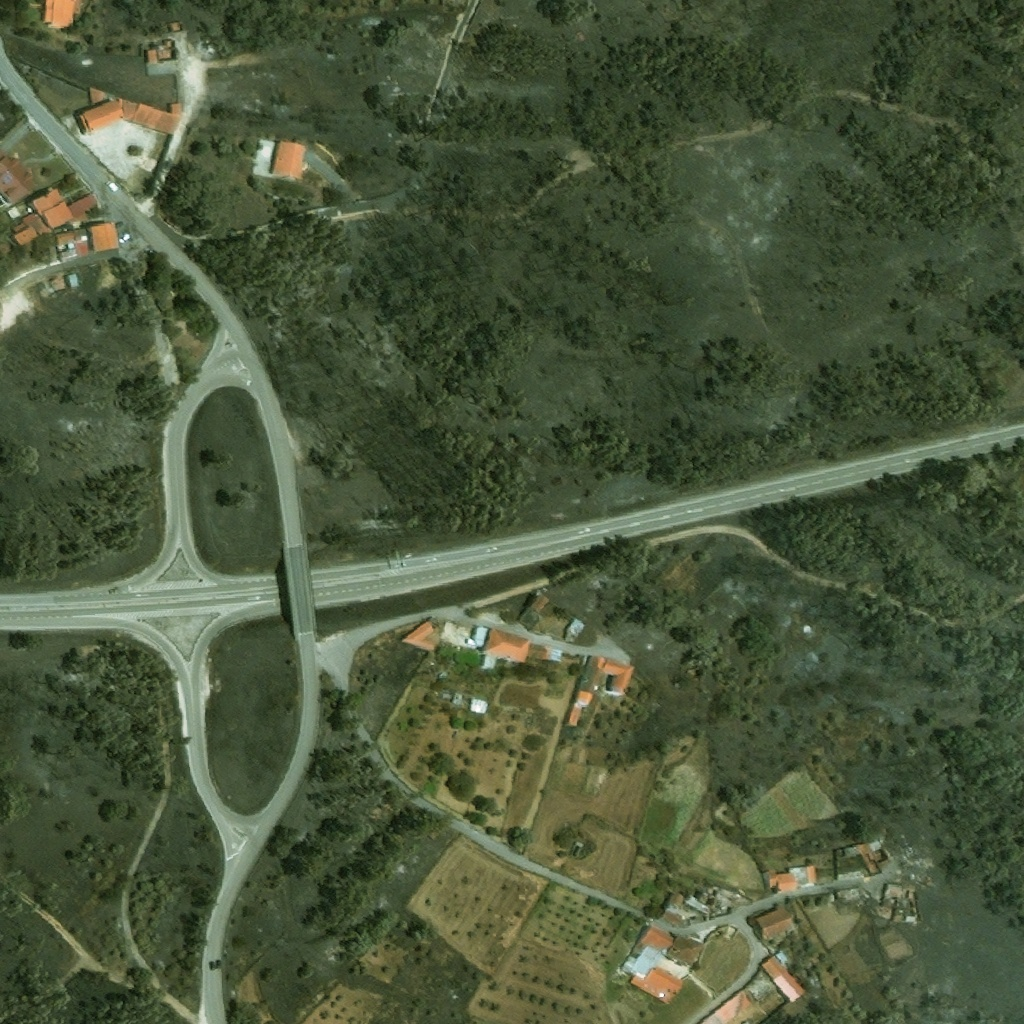0 no-damage: (620, 922, 705, 1005), (471, 624, 563, 670), (10, 187, 75, 249), (574, 653, 635, 708), (120, 99, 181, 137), (74, 89, 124, 135), (0, 148, 36, 206), (760, 956, 804, 1003), (701, 990, 754, 1023), (763, 864, 817, 894), (269, 139, 308, 180), (754, 906, 795, 941), (518, 591, 550, 631), (400, 620, 436, 650), (86, 221, 120, 252), (68, 192, 100, 220), (659, 907, 698, 927), (55, 227, 88, 245), (666, 890, 686, 913), (567, 702, 584, 726), (773, 947, 790, 965), (55, 247, 73, 263)
1 minor-damage: (564, 616, 588, 641)
2 major-damage: (450, 690, 489, 714)
3 destroyed: (835, 837, 893, 877), (683, 890, 716, 916), (883, 882, 919, 905), (145, 40, 178, 63), (50, 274, 79, 296), (876, 896, 898, 920), (834, 886, 866, 901), (839, 900, 866, 914), (894, 914, 915, 923)
4 un-classified: (41, 0, 80, 29)
